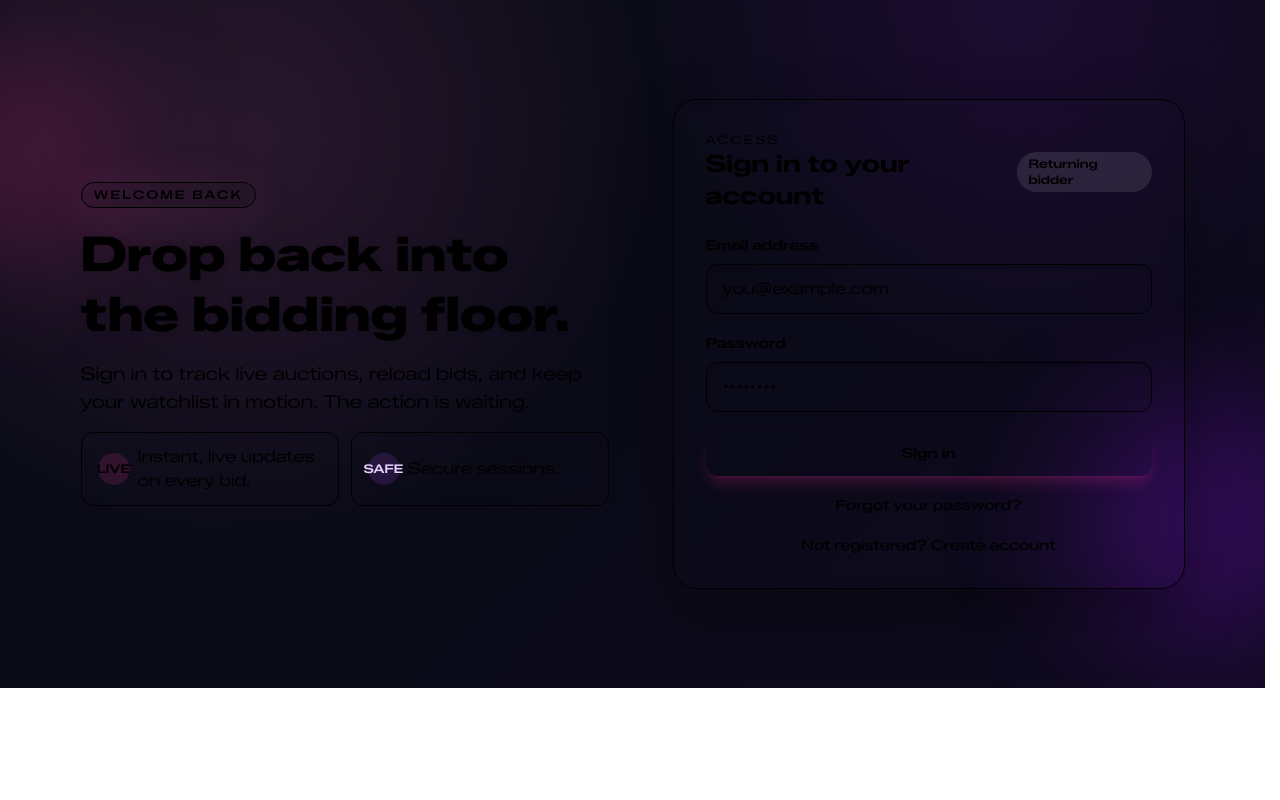
Test: LoginForm › shows a friendly error when the server returns an unexpected auth payload
Step 1. Type "test@example.com" into the field labelled "Email address" → [928, 289], box x1=706 y1=264 x2=1152 y2=314
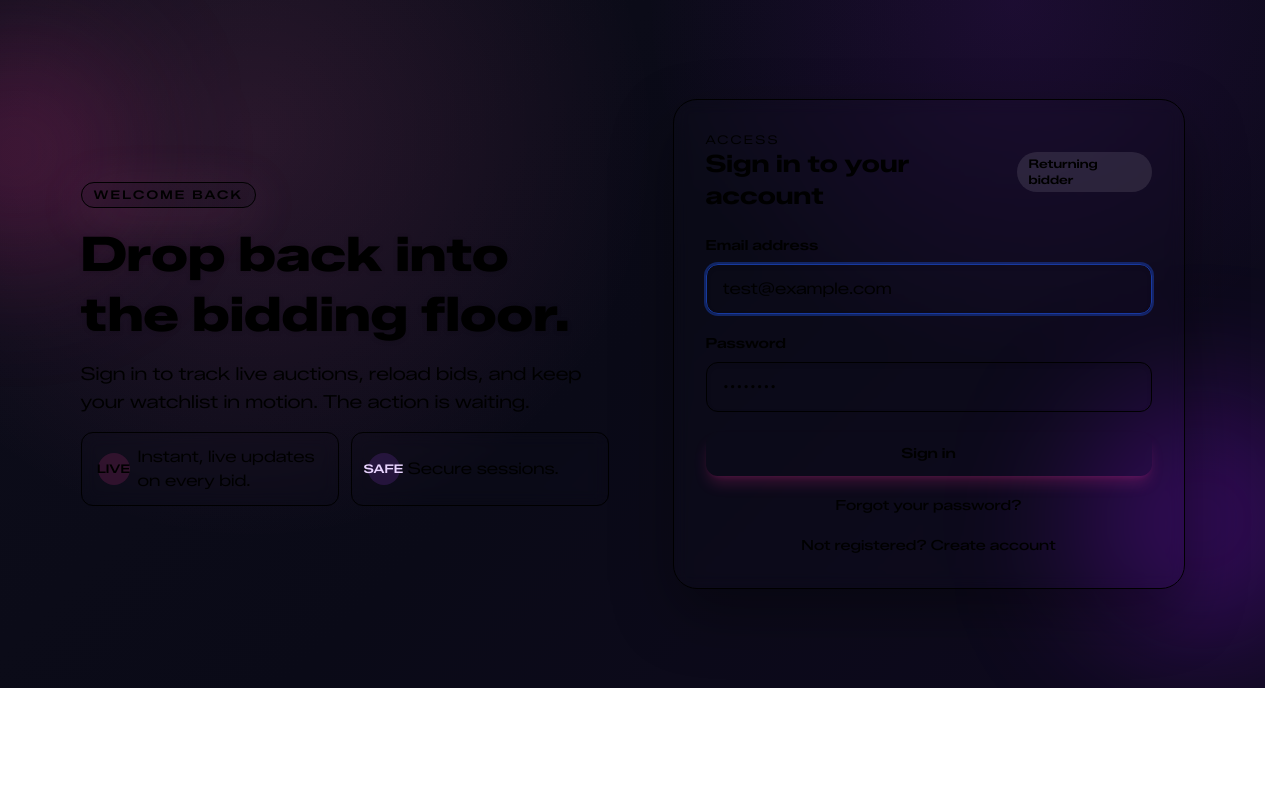
Step 2. Type "password123" into the password field labelled "Password" → [928, 387], box x1=706 y1=362 x2=1152 y2=412
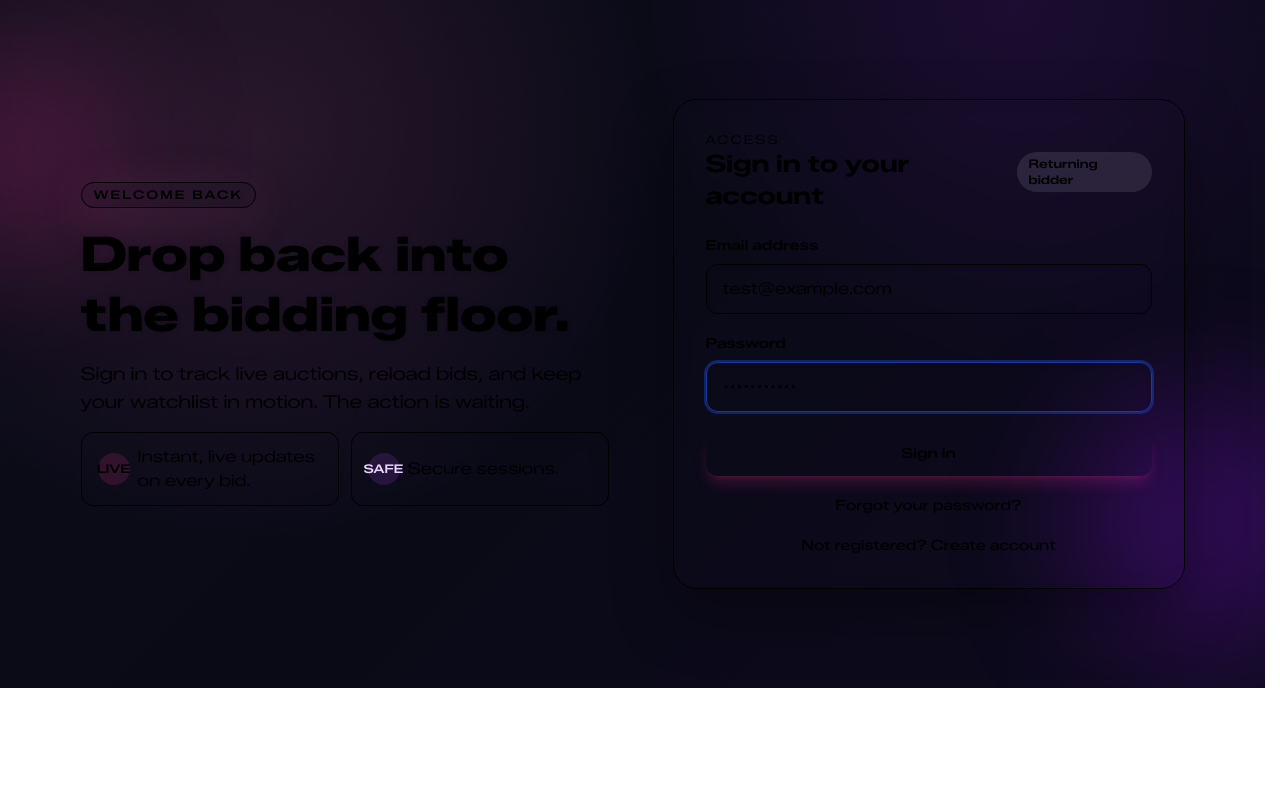
Step 3. Click the button "Sign in" → [928, 454], box x1=706 y1=432 x2=1152 y2=476
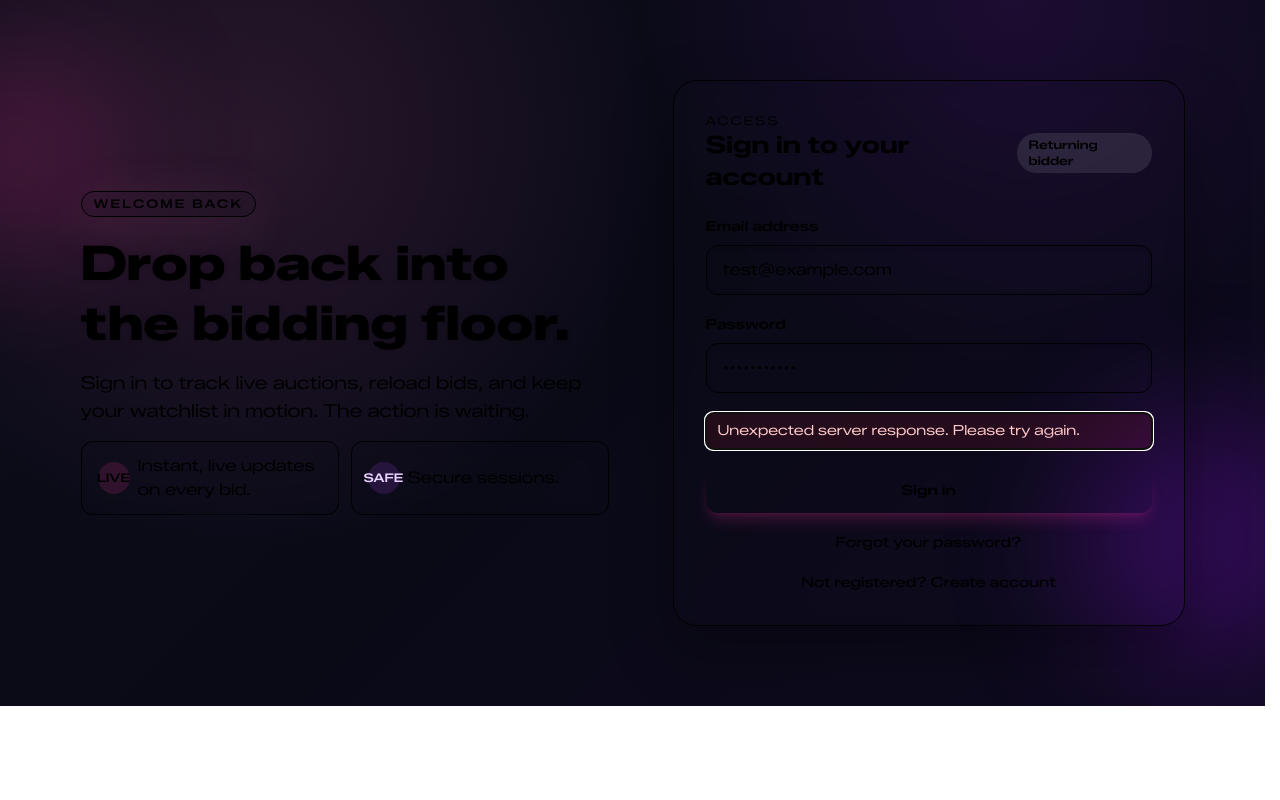
Check: the text "Unexpected server response. Please try again." is shown, box x1=706 y1=413 x2=1152 y2=449
